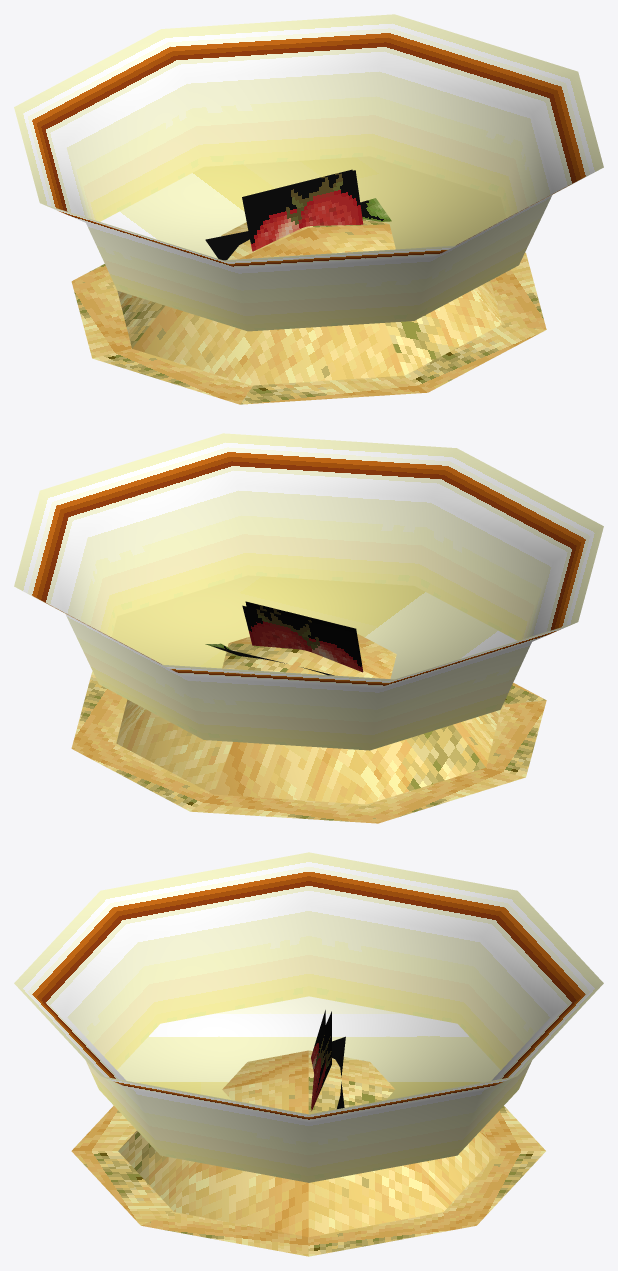
3 renders of one model, top to bottom at view 1: azimuth 30°, elevation 25°; view 2: azimuth 150°, elevation 25°; view 3: azimuth 270°, elevation 25°, orthographic.
Parts seen in each view (by area): view 1: 5571u_spps00_ss; view 2: 5571u_spps00_ss; view 3: 5571u_spps00_ss.
Part boxes in pixels (<box>): 5571u_spps00_ss: <box>14,14,603,404</box>; 5571u_spps00_ss: <box>14,433,603,823</box>; 5571u_spps00_ss: <box>14,852,603,1256</box>.
Bounding box in the file's own units: 0.8237 × 0.2644 × 0.7837.
Materials: 5 (5 with a texture image).
